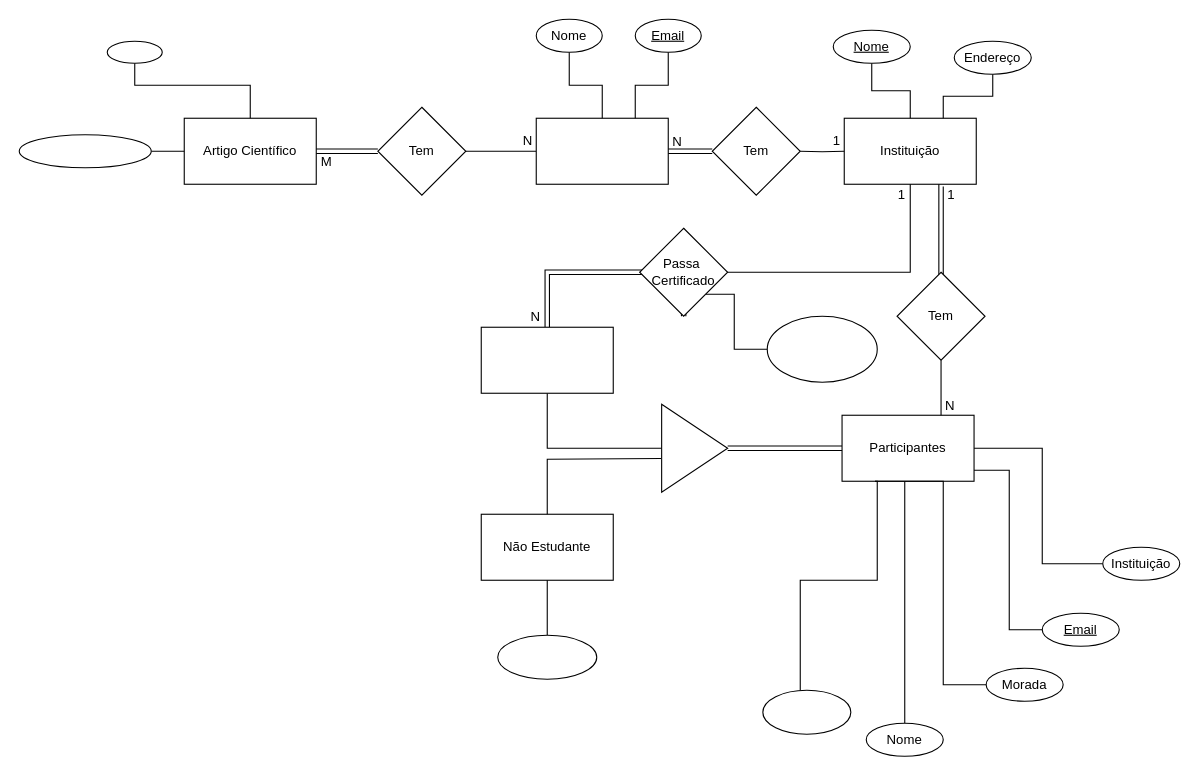
The diagram is 1199 pixels wide and 776 high, and some of its shapes have lost their labels. Each missing label, with the centre of its shape:
Autor: point (601, 150)
Data de Inscrição: point (806, 711)
Estudante: point (546, 359)
IS-A: point (694, 447)
Localização eletrónica do comprovativo: point (821, 348)
Número de registo: point (84, 151)
Referência Transação: point (547, 656)
Título: point (134, 51)
